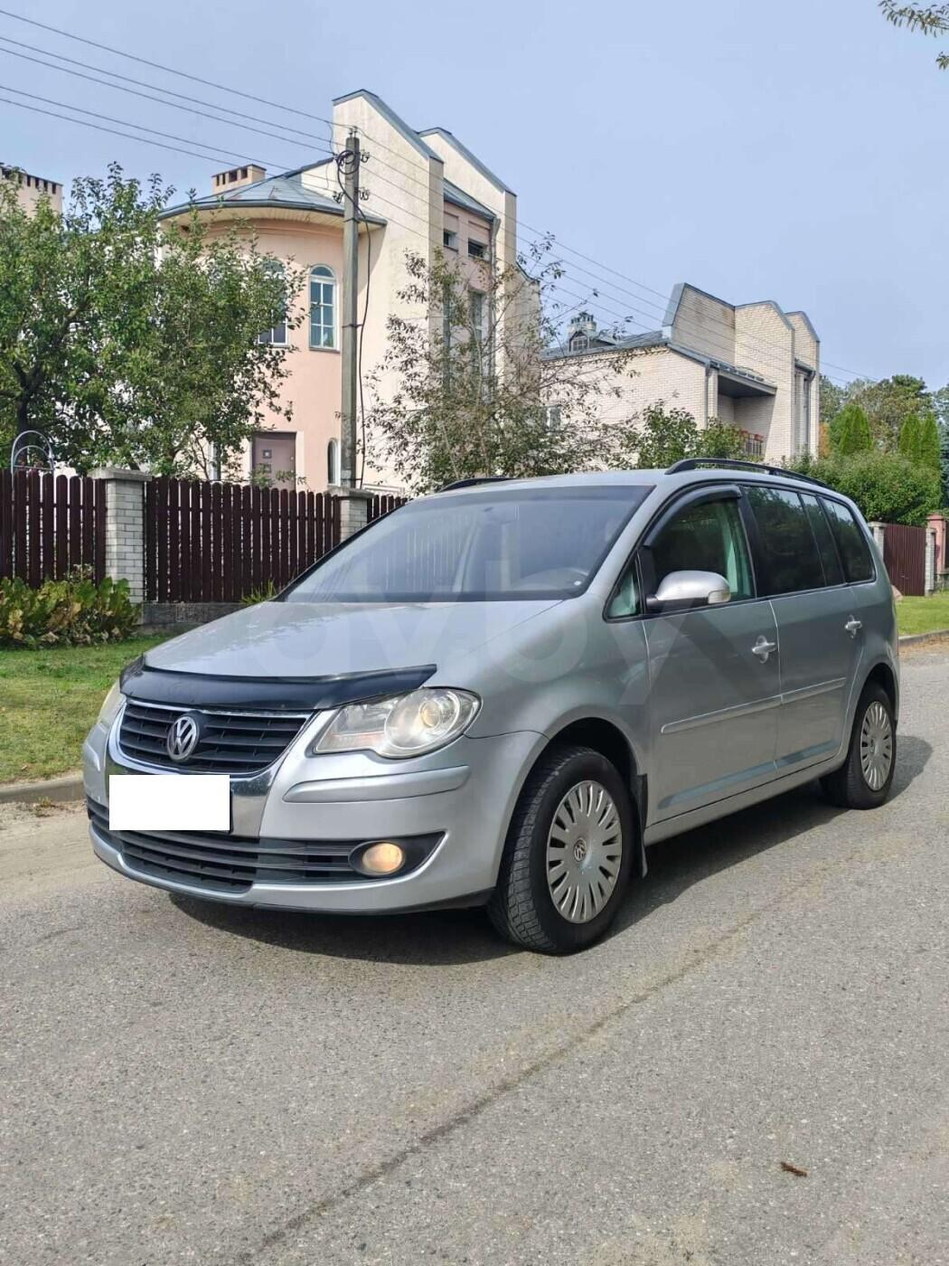Touran_2006-2010: (78, 459, 904, 953)
